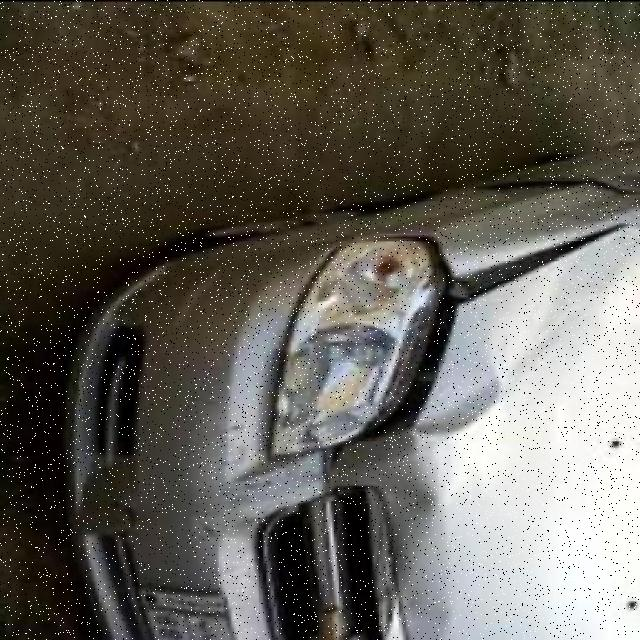damage: (186, 415, 350, 542), (376, 460, 458, 639), (414, 376, 502, 433)
